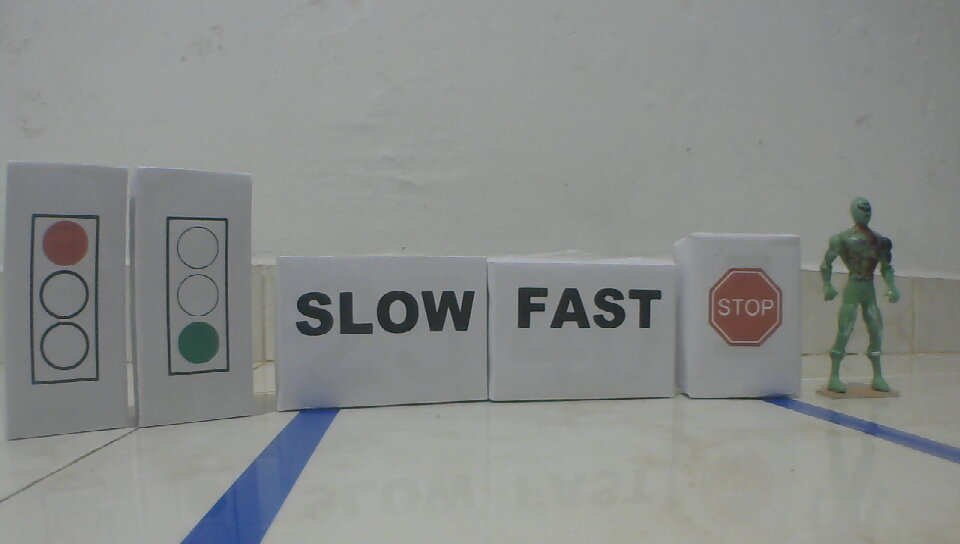Fast: (514, 285, 663, 332)
Green Traffic Light: (163, 215, 231, 380)
Person: (816, 190, 904, 399)
Red Traffic Light: (26, 211, 103, 387)
Slow: (294, 288, 476, 338)
Stop Sign: (707, 266, 784, 348)
